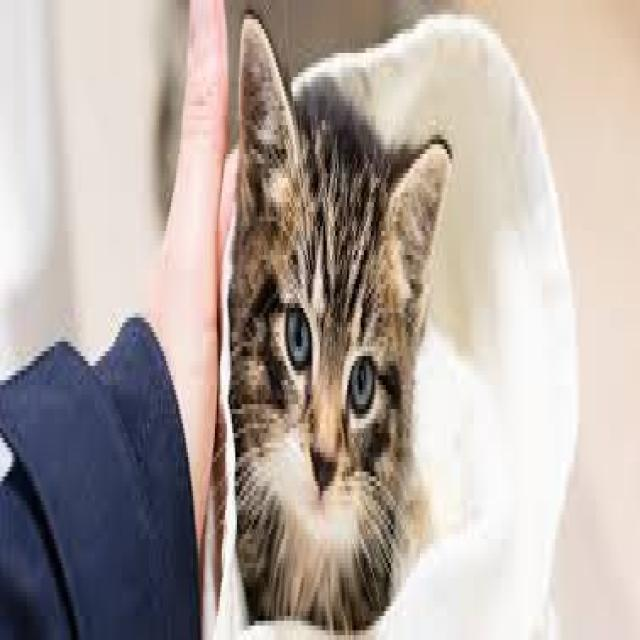cat: (255, 79, 392, 538)
